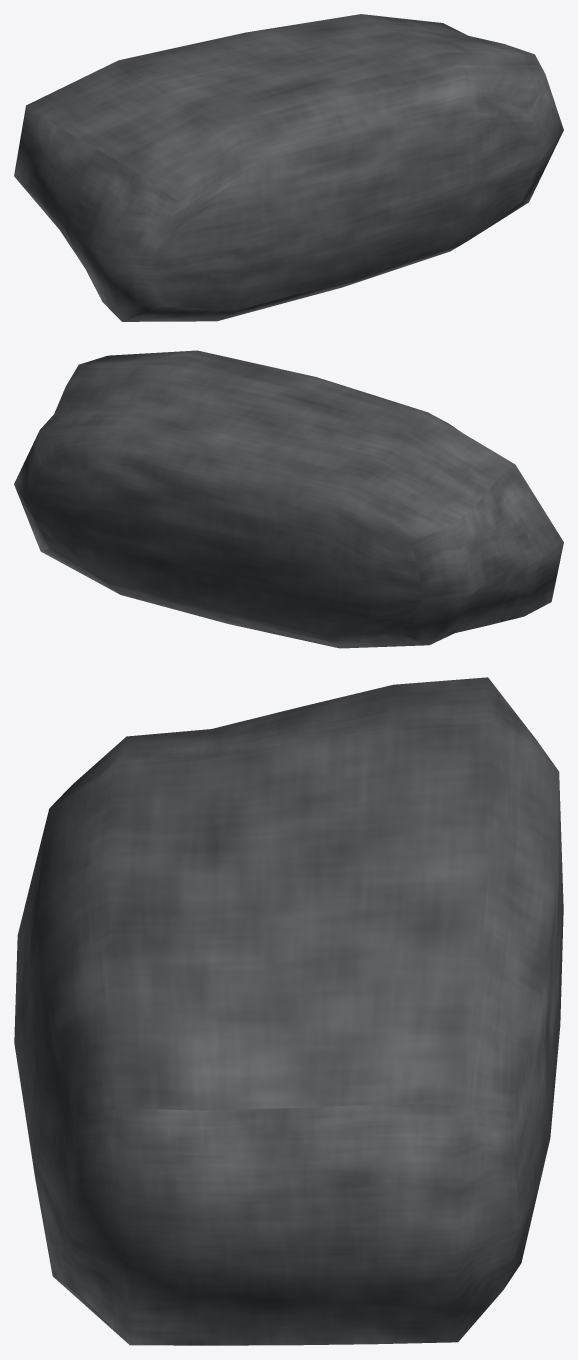
Rendered from Steen 1.fbx.
3 views of the same model, one above another, from view 1: azimuth 30°, elevation 25°; view 2: azimuth 150°, elevation 25°; view 3: azimuth 270°, elevation 25° (orthographic). The views are drawn at different scales.
Visible parts, largest first — view 1: pCube5; view 2: pCube5; view 3: pCube5.
Boxes of the visible parts, x1=… form: pCube5: x1=14, y1=14, x2=563, y2=321; pCube5: x1=14, y1=350, x2=563, y2=648; pCube5: x1=14, y1=677, x2=563, y2=1345.
Size of the model in its own units: 1.28 by 0.4927 by 0.6483.
